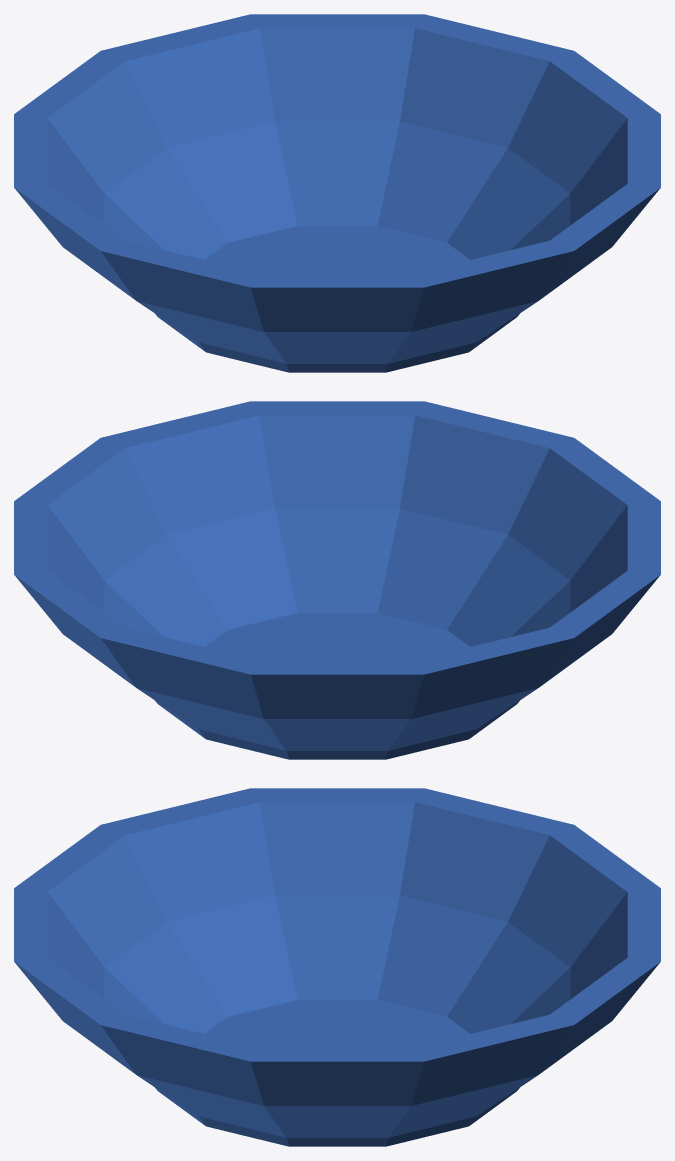
File: Bowl.FBX
3 renders of one model, top to bottom at view 1: azimuth 30°, elevation 25°; view 2: azimuth 150°, elevation 25°; view 3: azimuth 270°, elevation 25°, orthographic.
Parts seen in each view (by area): view 1: bowl_01; view 2: bowl_01; view 3: bowl_01.
Part boxes in pixels (x1,y1,x2,y2): bowl_01: (14,14,660,372); bowl_01: (14,401,660,759); bowl_01: (14,788,660,1146).
Size of the model in its own units: 10.54 by 10.54 by 2.62.
